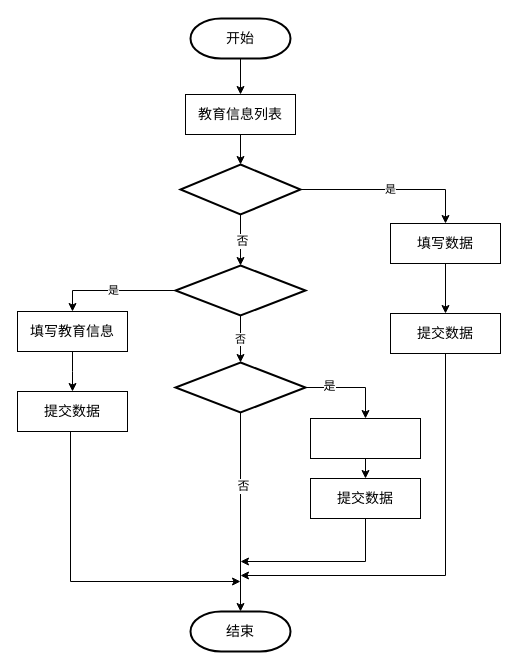
Image size: 518x669. Some labels were removed from this diagram. Here are the shapes that lost their labels. From the top down, the centre of each, then its label:
pixel 240 189: 是否添加教育信息
pixel 240 290: 是否修改教育信息
pixel 240 387: 是否删除教育信息
pixel 365 438: 选中教育信息
